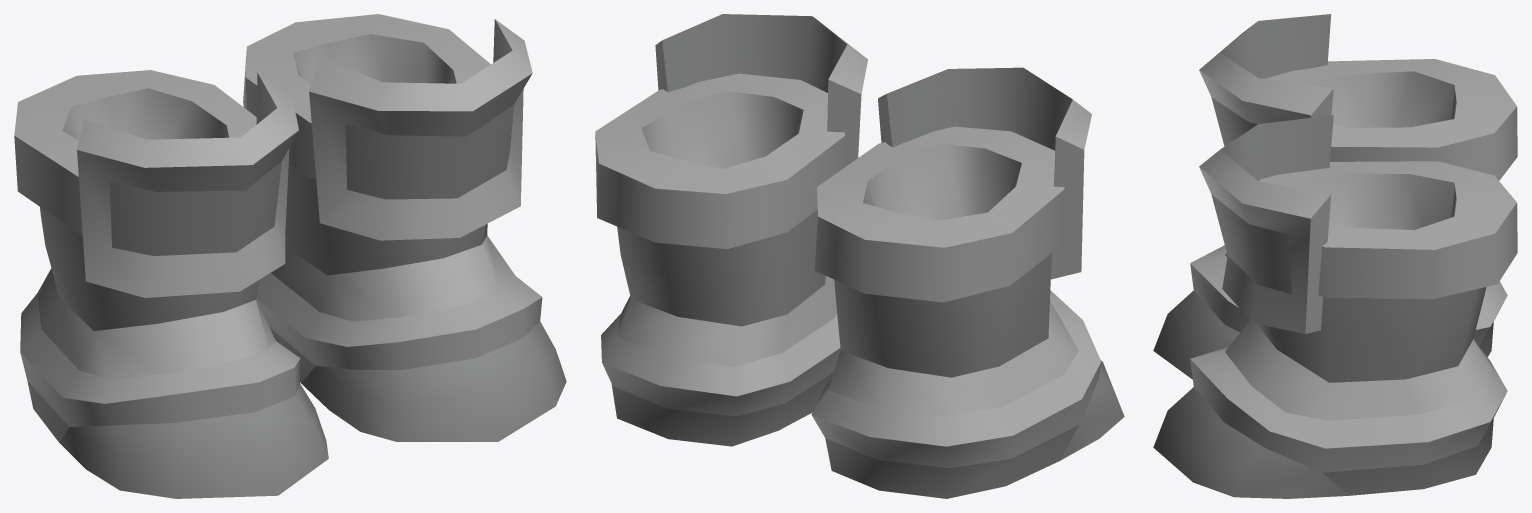
Rendered from Shoes_13.fbx.
The picture shows the model from 3 angles, left to right: view 1: azimuth 30°, elevation 25°; view 2: azimuth 150°, elevation 25°; view 3: azimuth 270°, elevation 25°; orthographic projection. The views are drawn at different scales.
Parts seen in each view (by area): view 1: Shoes_13; view 2: Shoes_13; view 3: Shoes_13.
Part boxes in pixels (box(x1,y1,x2,y2)): Shoes_13: box(14, 14, 566, 498); Shoes_13: box(595, 14, 1124, 498); Shoes_13: box(1153, 14, 1517, 498).
Bounding box in the file's own units: 42.94 × 29.58 × 32.79.
